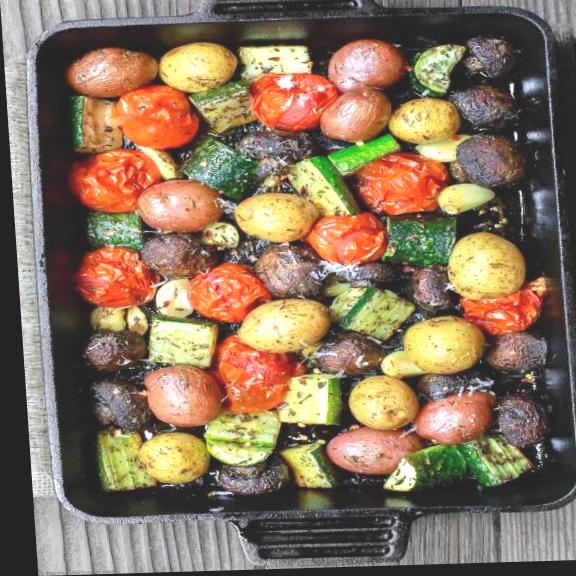Potato: (402, 310, 489, 383), (451, 228, 528, 304), (152, 37, 244, 96), (336, 372, 422, 433), (381, 91, 467, 148), (141, 430, 220, 491), (225, 190, 312, 237)
Tomato: (351, 148, 460, 223), (442, 278, 556, 347), (207, 323, 292, 415), (70, 144, 169, 216), (247, 70, 339, 133), (119, 85, 202, 154), (296, 213, 404, 265)
